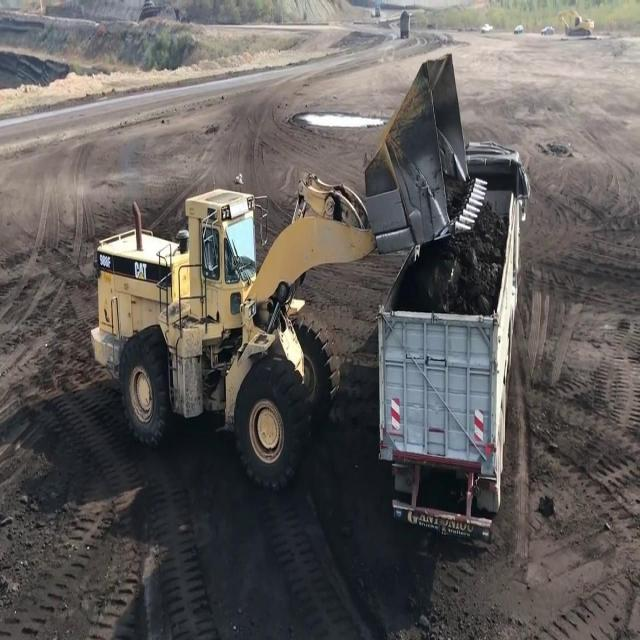Dump Truck: (372, 140, 530, 554)
Loader: (82, 55, 486, 493)
